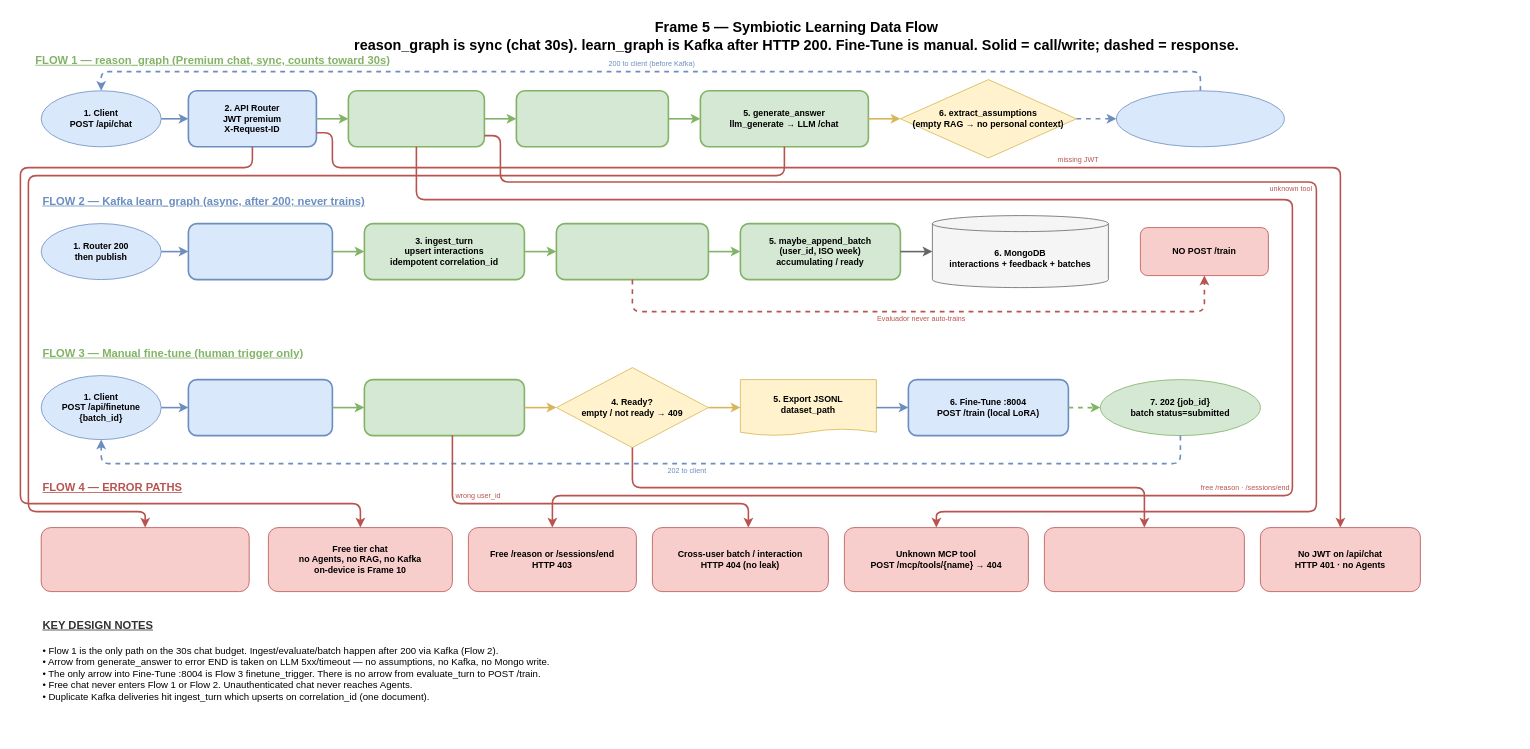
Image size: 1530x749. Some labels were removed from this diagram. The centre of each missing label's shape, as x and y in pixels:
"2. API Router JWT premium missing batch_id → 422" goes at pixel 260 407.
"2. Kafka session.turn.completed same X-Request-ID" goes at pixel 260 251.
"3. Agents POST /batches/{id}/trigger" goes at pixel 444 407.
"3. POST /reason reason_graph.invoke" goes at pixel 416 118.
"4. evaluate_turn heuristic score write agent_feedback" goes at pixel 632 251.
"4. retrieve_context rag_search → RAG :8002" goes at pixel 592 118.
"7. 200 OK response + assumptions + sources" goes at pixel 1200 118.
"LLM 5xx / timeout generate → error END HTTP 502 / 504 · no ingest · no Kafka" goes at pixel 144 559.
"Trigger not ready / empty / submitted HTTP 409 · no POST /train" goes at pixel 1144 559.
